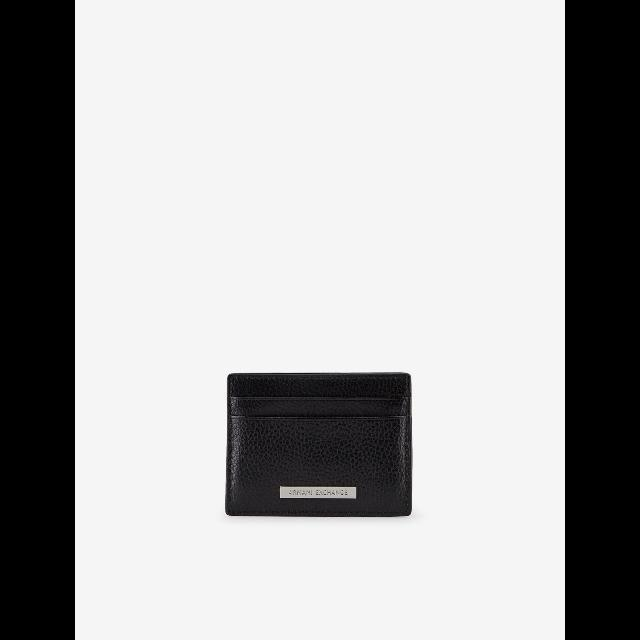wallet: (218, 362, 416, 520)
